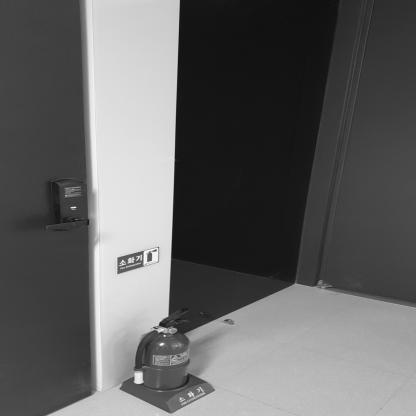FE: (121, 309, 215, 414)
